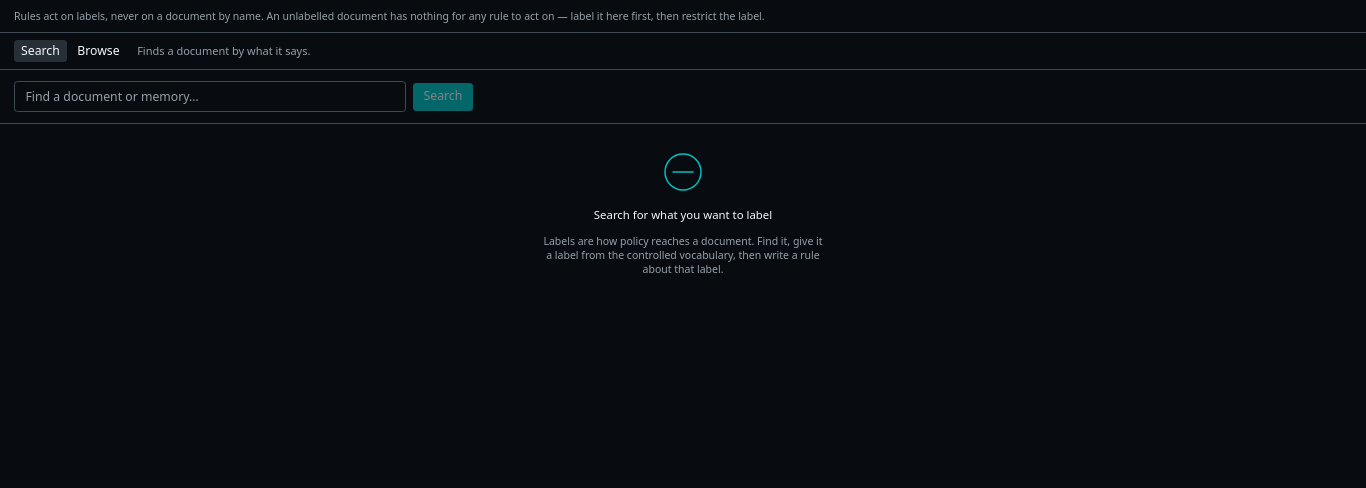
Test: LabelsPane — browsing documents › pages with the keyset cursor and appends rather than replacing
What coordinates should you click on to do the following:
click the tab "browse"
I would click on:
 (98, 51)
Its box is left=70, top=40, right=127, bottom=62.
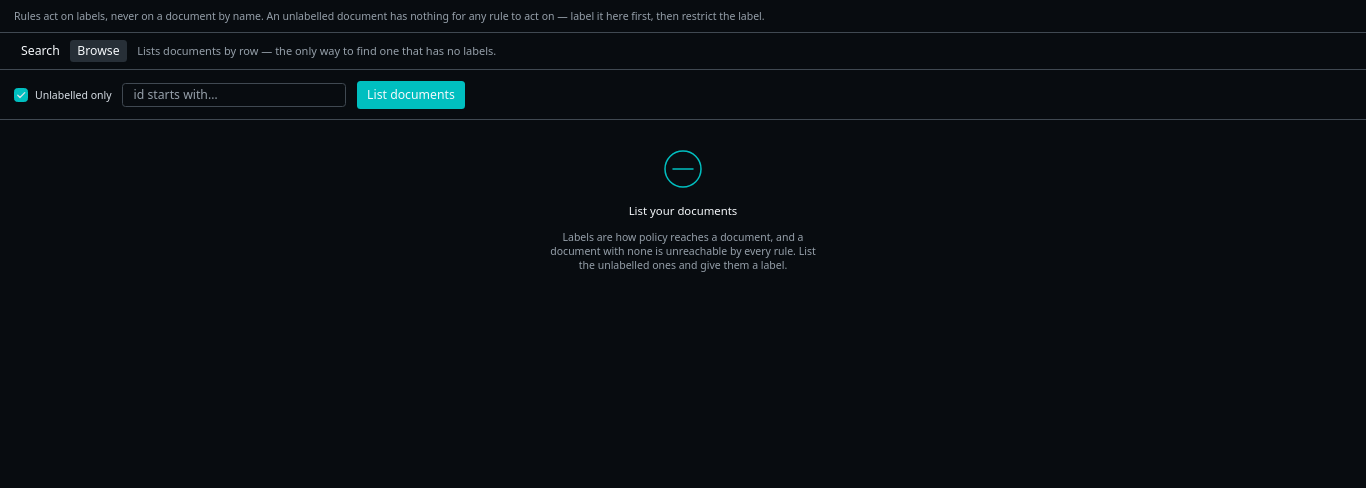
What coordinates should you click on to do the following:
click the button "List documents"
I would click on:
 (411, 95)
Its box is left=357, top=81, right=465, bottom=109.
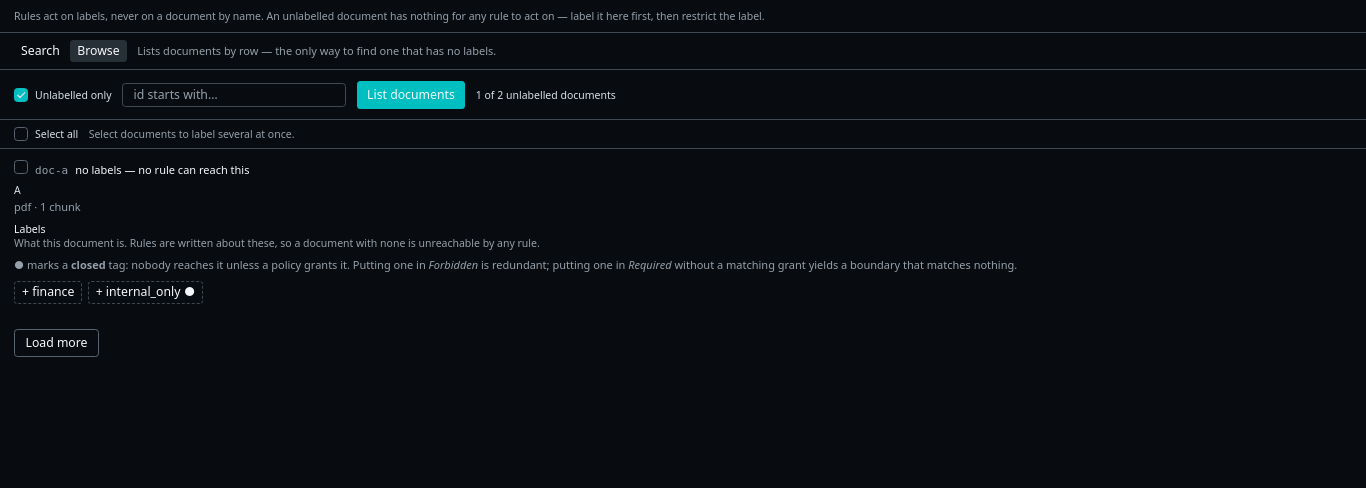
Check: the text "A" is shown, box left=14, top=183, right=21, bottom=197
What coordinates should you click on to do the following:
click the button "Load more"
I would click on:
 (56, 343)
Its box is left=14, top=329, right=99, bottom=357.
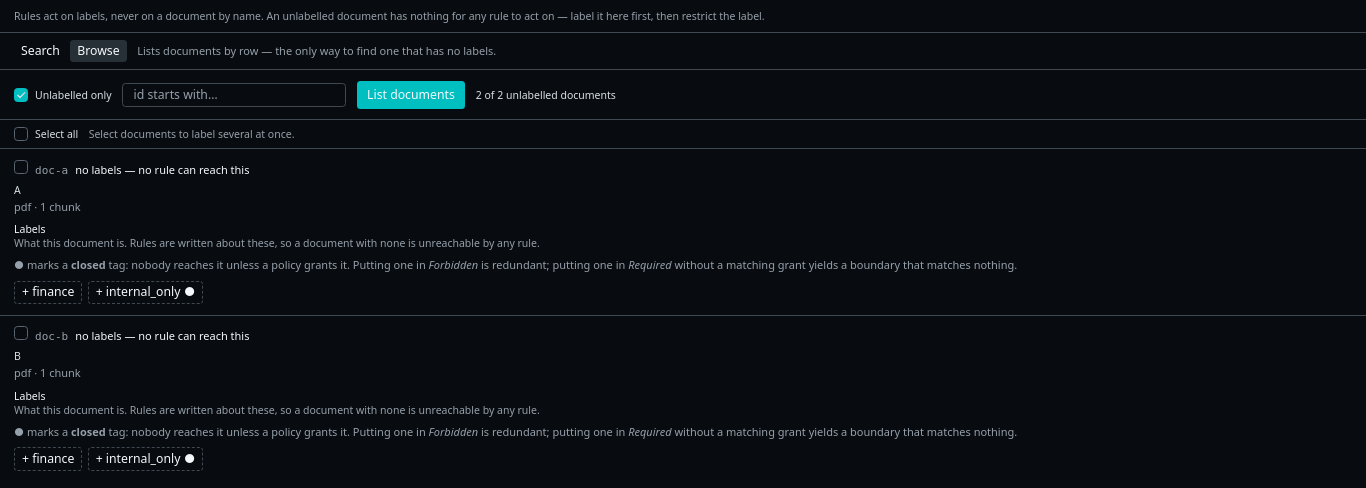
Check: the text "A" is shown, box left=14, top=183, right=21, bottom=197
Check: the text "B" is shown, box left=14, top=350, right=21, bottom=364
